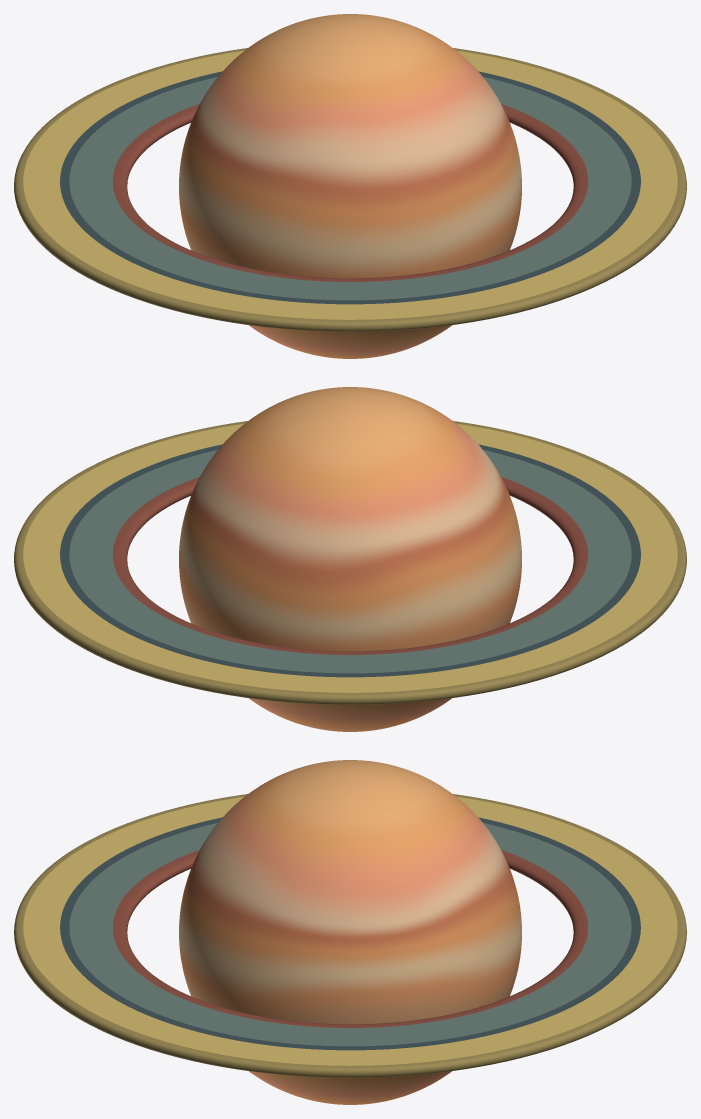
Rendered from Saturn 4.glb.
3 renders of one model, top to bottom at view 1: azimuth 30°, elevation 25°; view 2: azimuth 150°, elevation 25°; view 3: azimuth 270°, elevation 25°, orthographic.
Parts seen in each view (by area): view 1: Sphere, Circle; view 2: Sphere, Circle; view 3: Sphere, Circle.
Part boxes in pixels (x1=…): Sphere: x1=179, y1=14, x2=521, y2=358; Circle: x1=14, y1=48, x2=686, y2=331; Sphere: x1=179, y1=387, x2=521, y2=731; Circle: x1=14, y1=421, x2=686, y2=704; Sphere: x1=179, y1=760, x2=521, y2=1104; Circle: x1=14, y1=794, x2=686, y2=1077.
Size of the model in its own units: 6.2 by 3.19 by 6.2.
6 materials, 1 textured.
